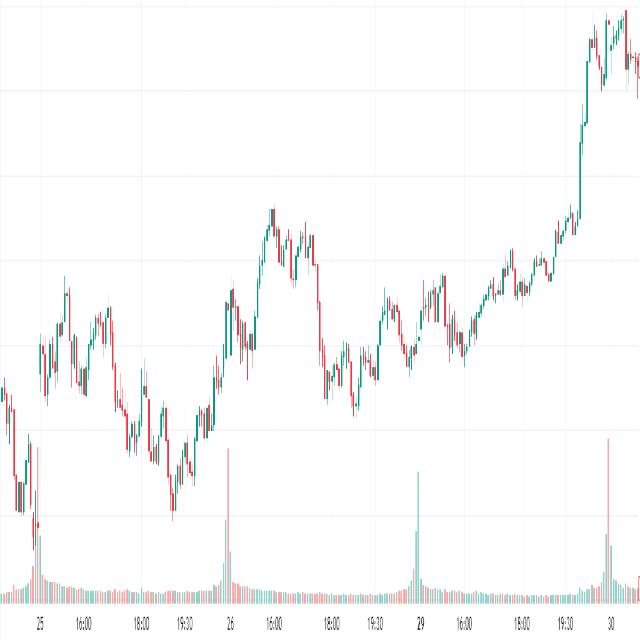Rising-Wedge: (310, 199, 601, 520)
Rounding-Bottom: (107, 334, 229, 524)
